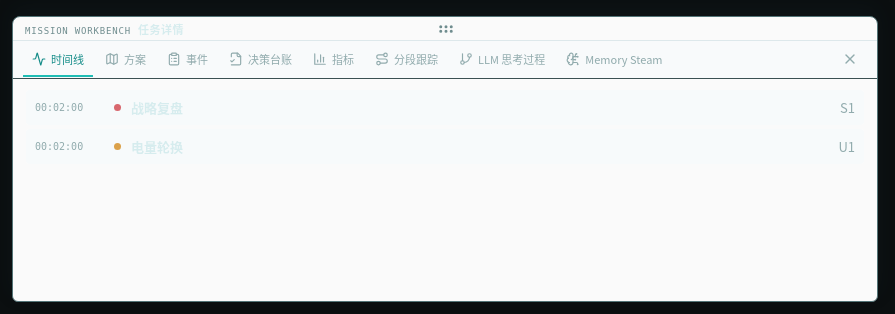
Test: BottomDrawer adaptive events › shows the LLM thinking paragraph
What coordinates should you click on to do the following:
click the tab "LLM 思考过程"
I would click on:
 (502, 60)
Its box is [450,42,554,76].
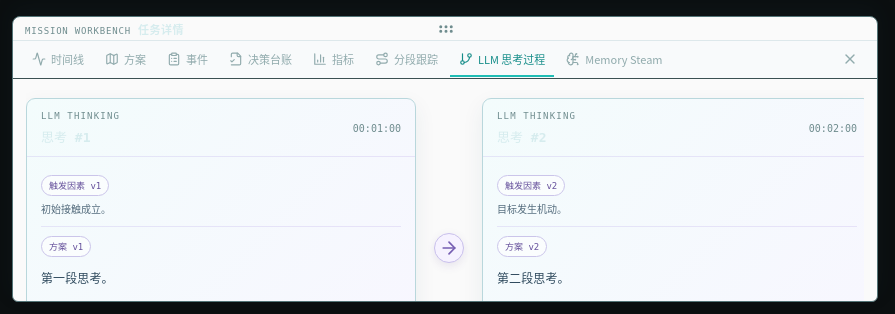
Result: the text "第一段思考。" is shown at [41,268,114,286]
Result: the text "第二段思考。" is shown at [497,268,570,286]
Result: the text "目标发生机动。" is shown at [497,201,567,216]
